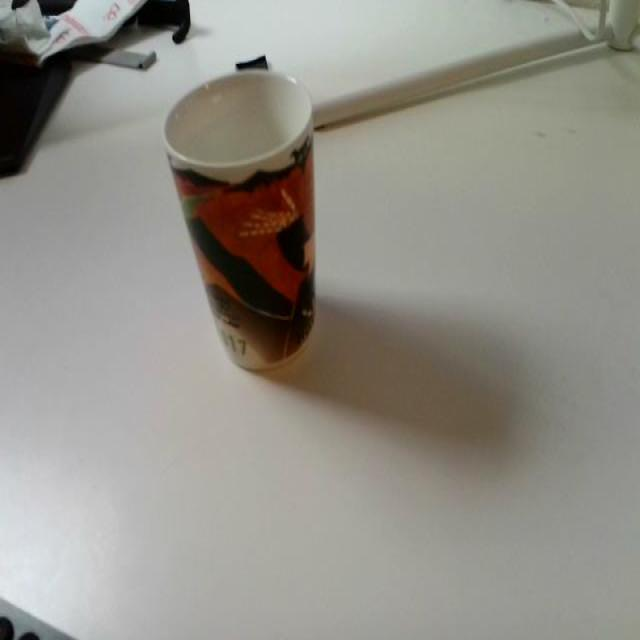cup: (152, 60, 342, 393)
